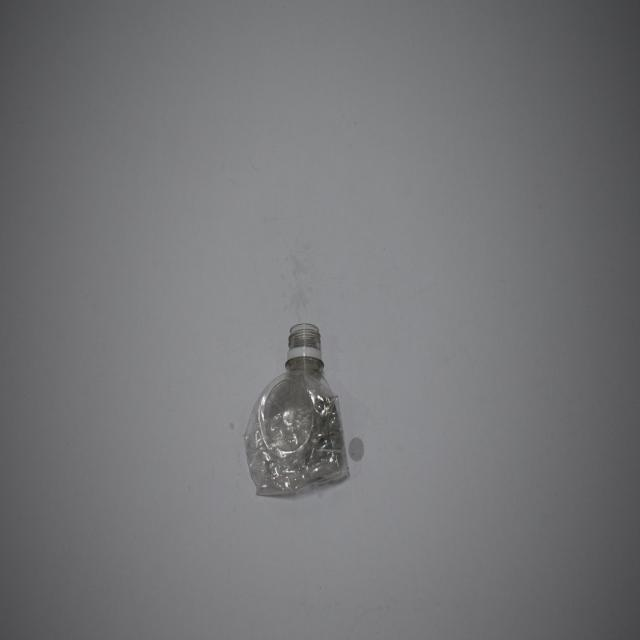bottle: (242, 319, 352, 502)
